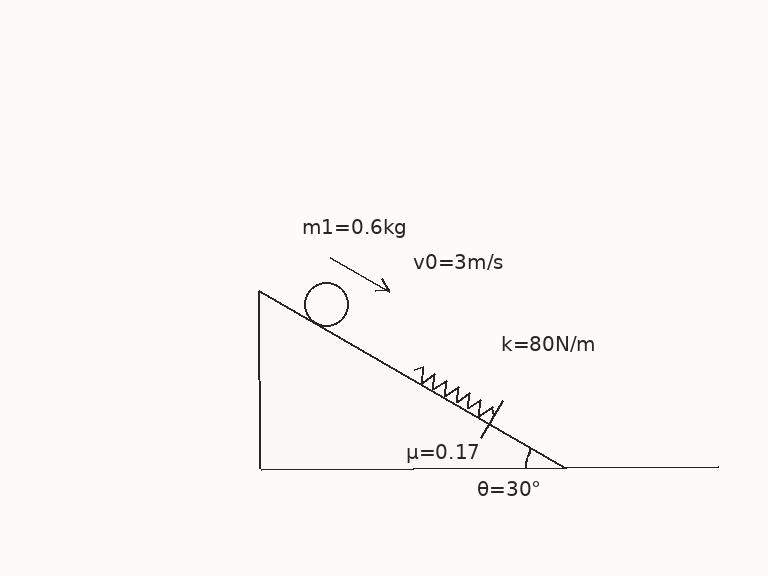ball: (302, 280, 350, 328)
ramp: (257, 289, 568, 470)
spring: (412, 365, 496, 418)
